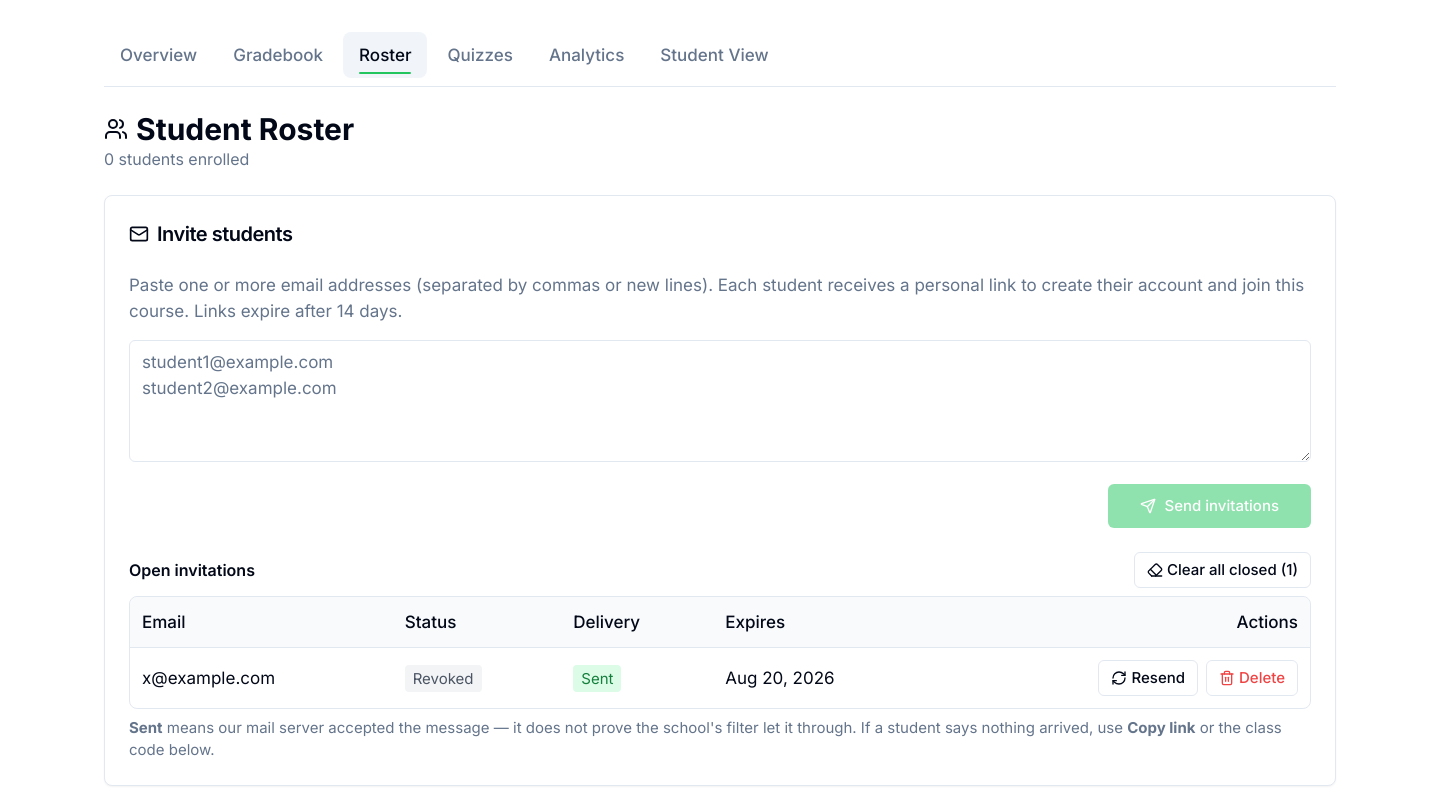
Test case: StudentRosterPage invite cleanup (Phase 68) › surfaces the API detail when a delete is refused
Click the button with aria-label "delete the revoked invitation for x@example.com": (1252, 678) [1206,660,1298,696]
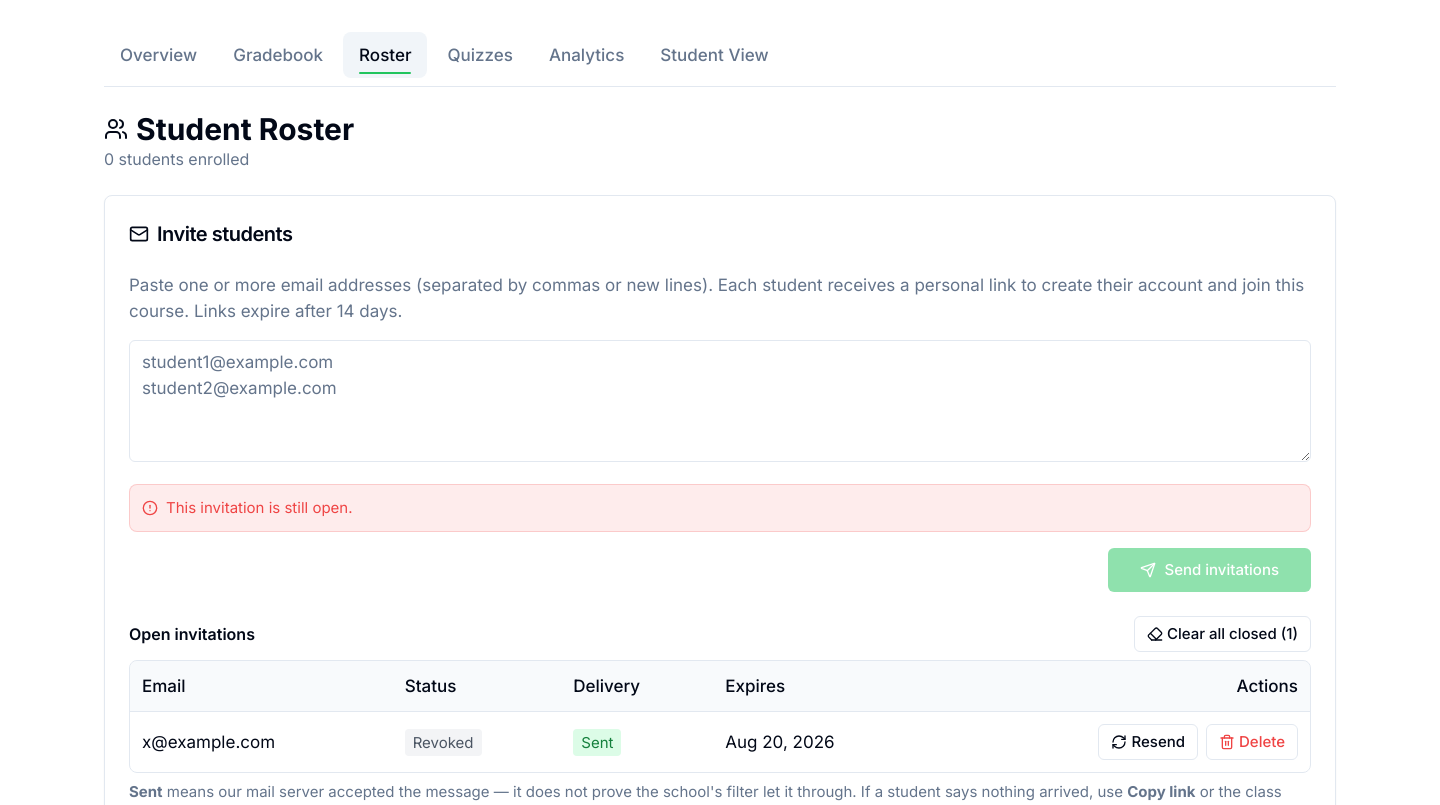
Now the text "This invitation is still open." is shown, box [166,497,352,519]
